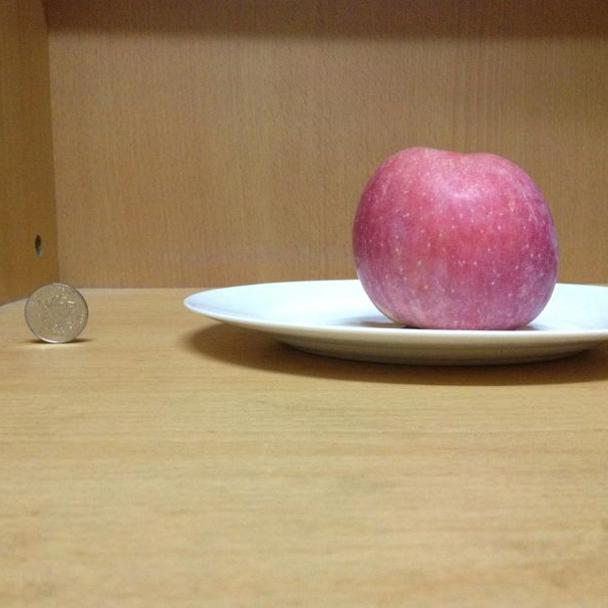apple: (351, 143, 565, 330)
